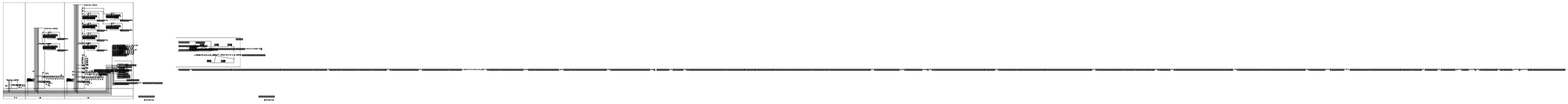wall: (1142, 35, 1568, 66), (736, 20, 849, 41), (705, 85, 789, 93), (705, 74, 789, 82), (550, 74, 634, 82), (289, 53, 373, 60), (550, 85, 634, 92), (550, 64, 634, 71), (550, 53, 634, 60), (289, 65, 373, 72), (56, 12, 97, 20), (22, 12, 56, 20)
window: (1152, 51, 1373, 62)
